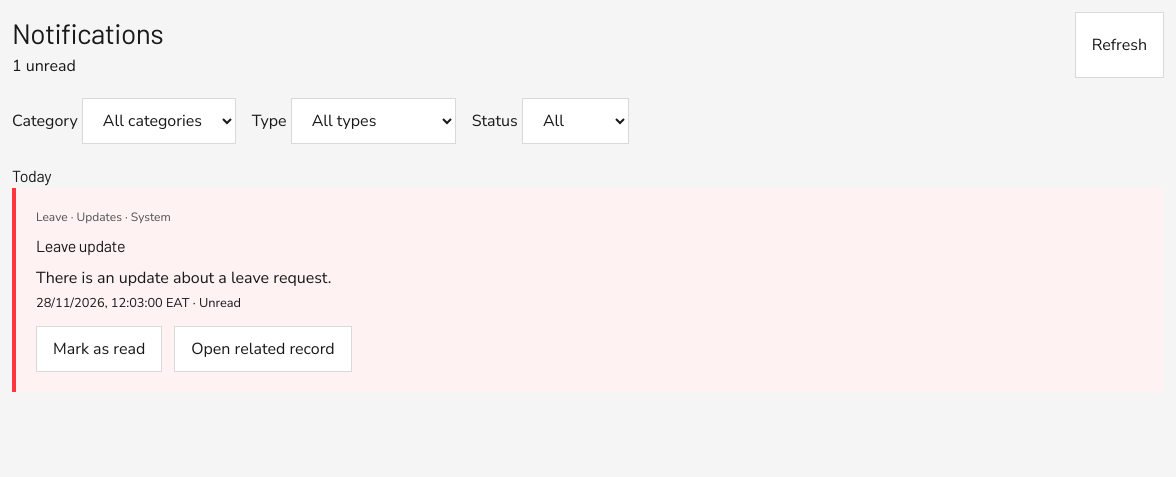
Test: failed read from a record link reports the error without blocking navigation
This screenshot has width=1176, height=477.
Click the link "Open related record": {"x": 263, "y": 349} [174,326,352,372]
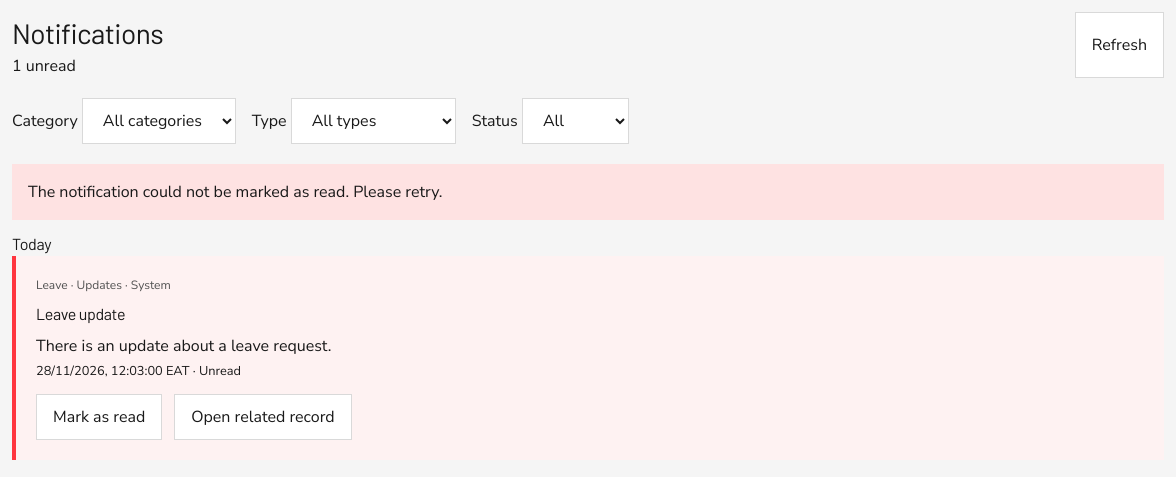
Now the message "The notification could not be marked as read. Please retry." is shown, box [12,164,1164,220]
